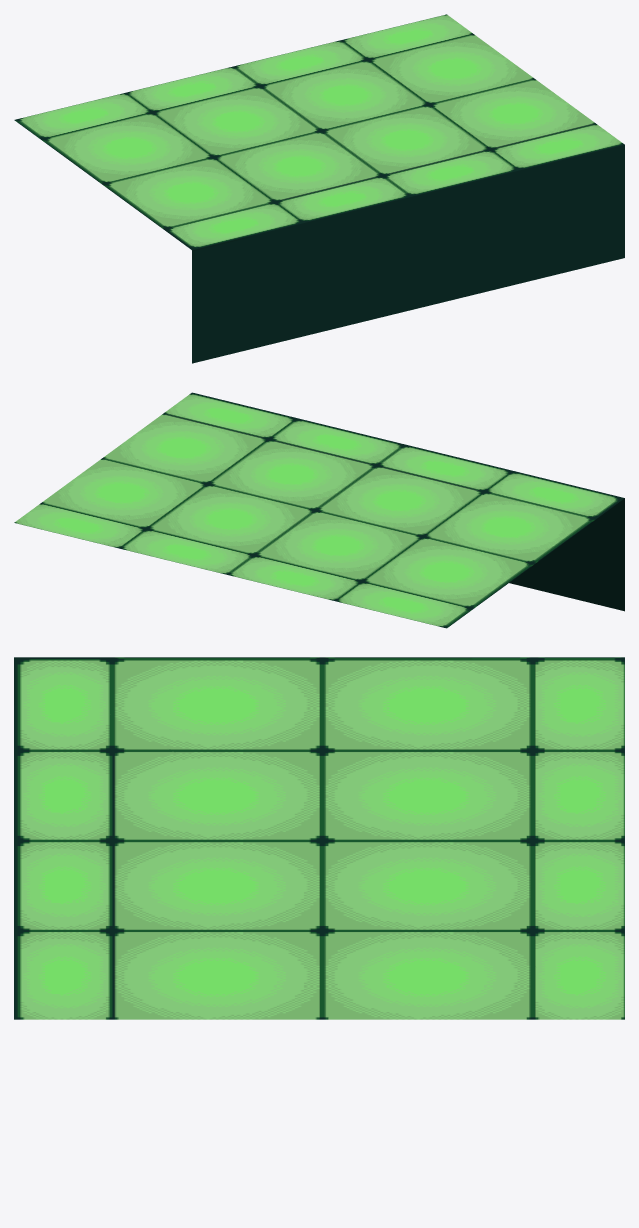
The model's file is SM_SOL_environment_miku_stage.fbx.
3 views of the same model, one above another, from view 1: azimuth 30°, elevation 25°; view 2: azimuth 150°, elevation 25°; view 3: azimuth 270°, elevation 25° (orthographic). The views are drawn at different scales.
Parts seen in each view (by area): view 1: stage; view 2: stage; view 3: stage.
Boxes of the visible parts, x1,y1,x2,y2 form: stage: (14, 14, 624, 363); stage: (14, 392, 624, 628); stage: (14, 657, 624, 1019).
Size of the model in its own units: 800 by 200 by 570.
